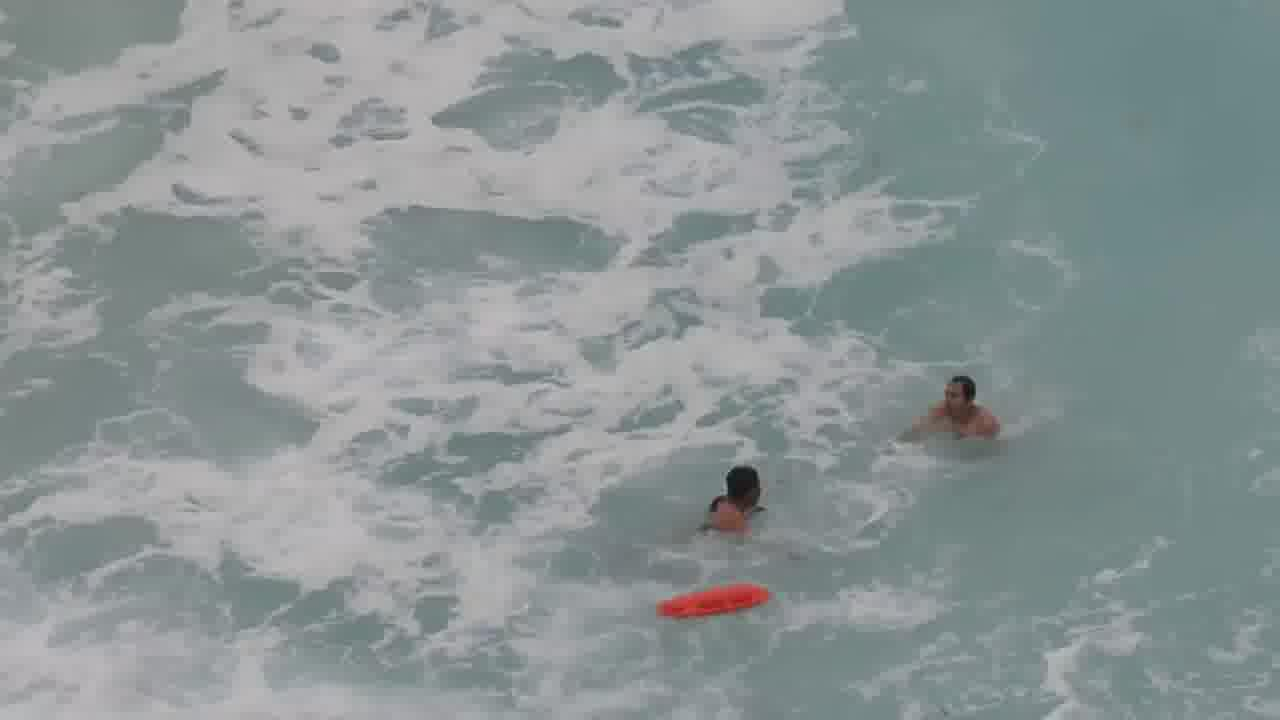swimmer: (886, 375, 1019, 452), (679, 456, 776, 535)
